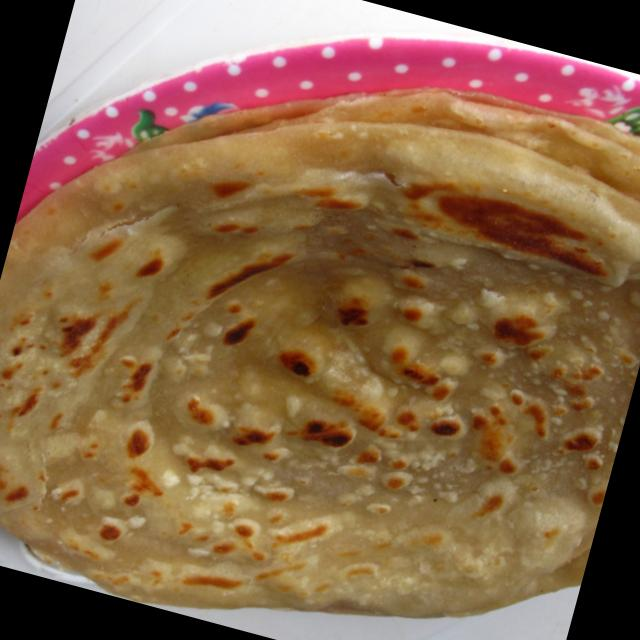roti: (0, 87, 640, 613)
